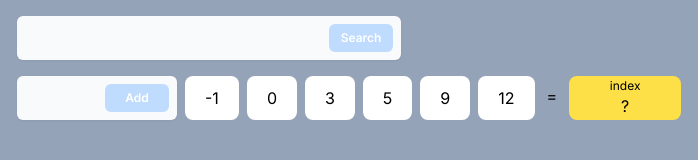
Test case: HomePage › Search number › should show -1 if the number is not found
The width and height of the screenshot is (698, 160).
Type "8" into the number field with test id "search-input".
click(209, 38); type("8")  # box [17,16,401,60]
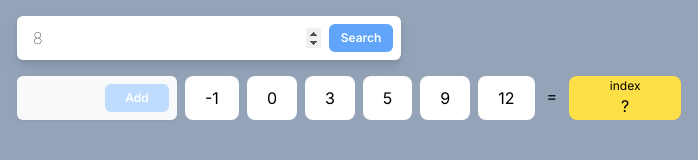
Click the button with test id "search-button".
click(361, 38)  # box [329,24,393,52]
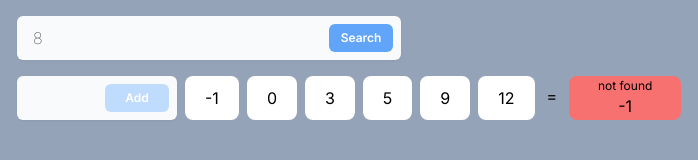
Expected: the text with test id "result-value" reads "-1", [618,96,632,116]
